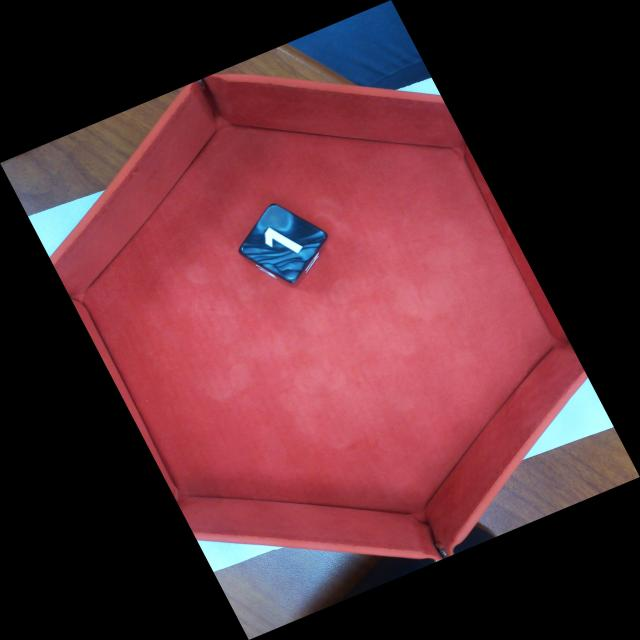dice: (239, 205, 327, 283)
